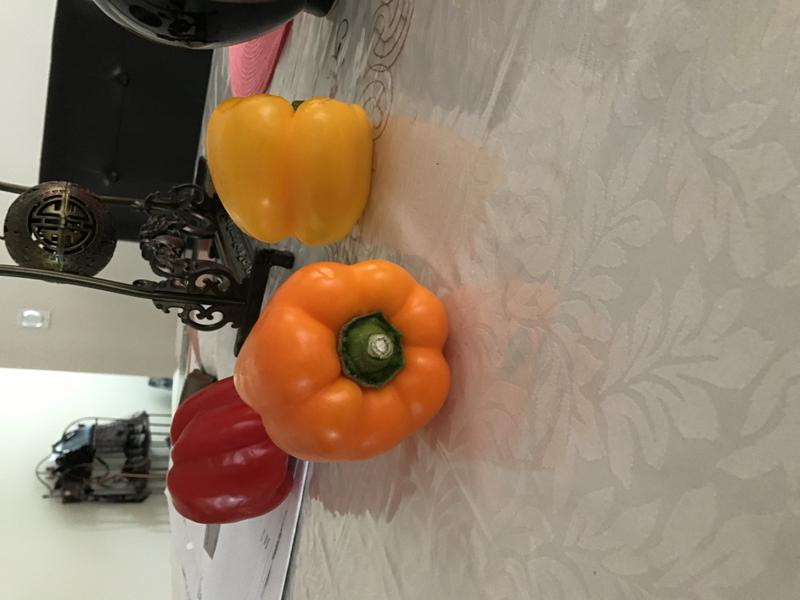orange_pepper: (228, 254, 461, 471)
red_pepper: (157, 372, 306, 529)
yellow_pepper: (198, 84, 383, 255)
